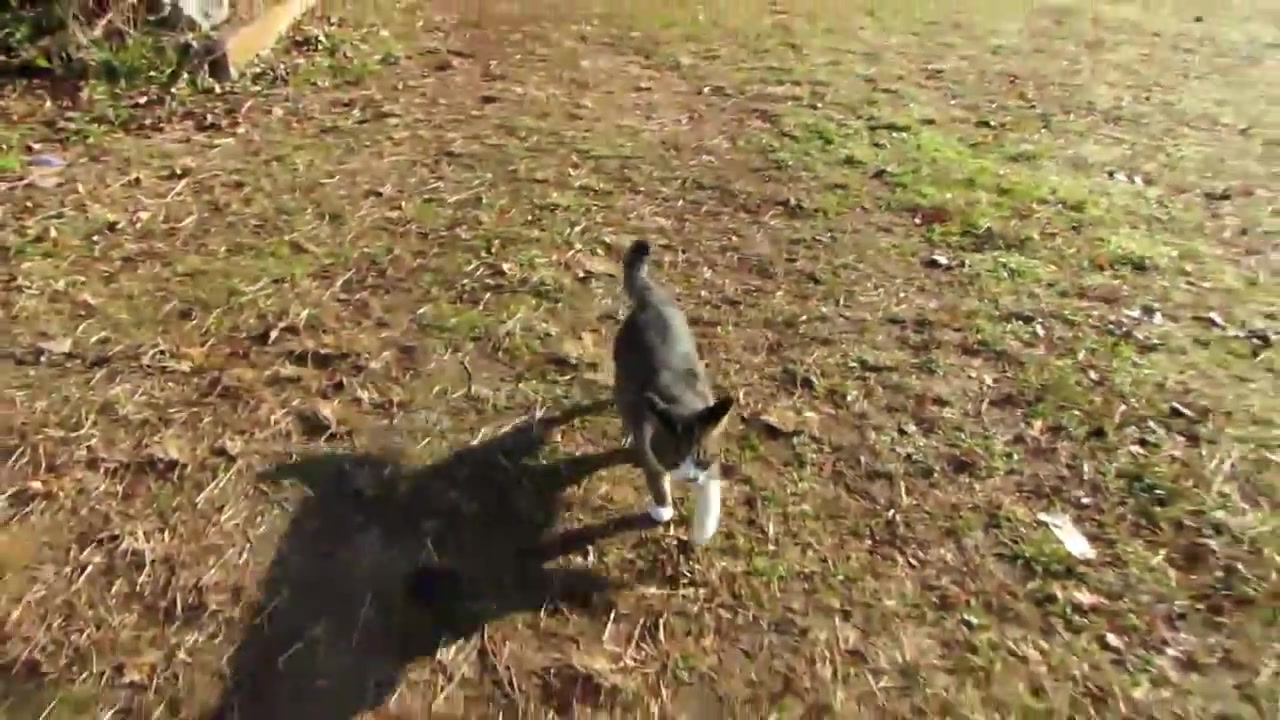cat: (608, 239, 738, 546)
